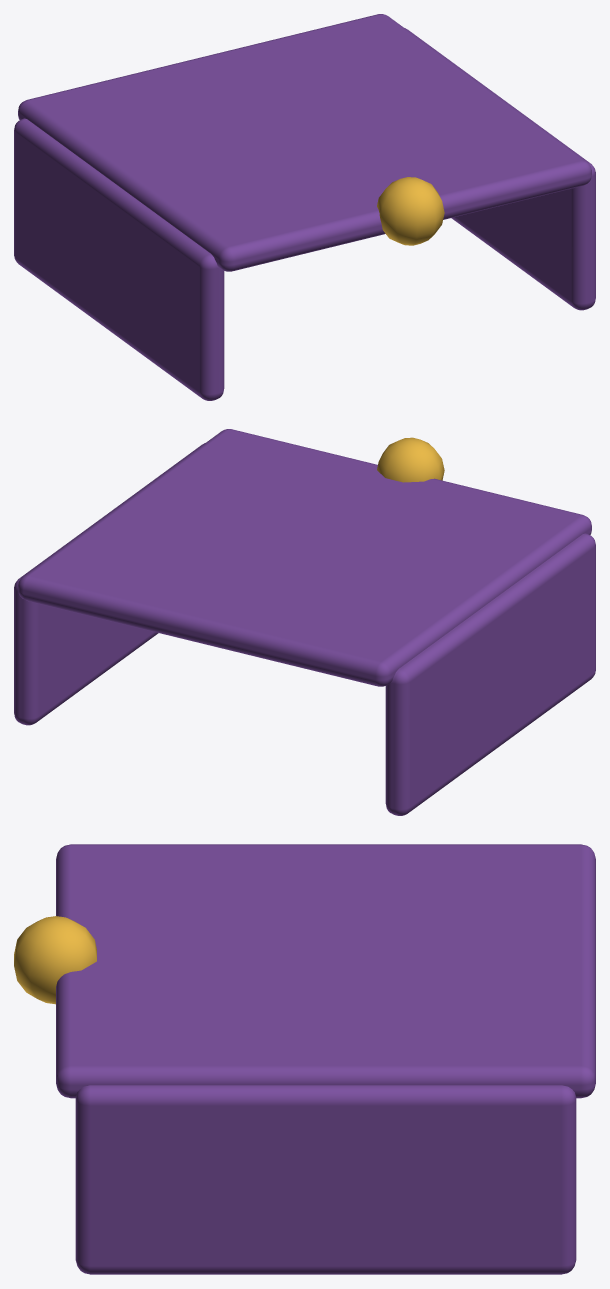
Rendered from acc-cape.glb.
3 views of the same model, one above another, from view 1: azimuth 30°, elevation 25°; view 2: azimuth 150°, elevation 25°; view 3: azimuth 270°, elevation 25° (orthographic). The views are drawn at different scales.
Visible parts, largest first — view 1: acc-cape; view 2: acc-cape; view 3: acc-cape.
Boxes of the visible parts, <box> form: acc-cape: <box>14,14,595,400</box>; acc-cape: <box>14,429,595,815</box>; acc-cape: <box>14,844,595,1274</box>.
Size of the model in its own units: 1.19 by 0.53 by 1.19.
